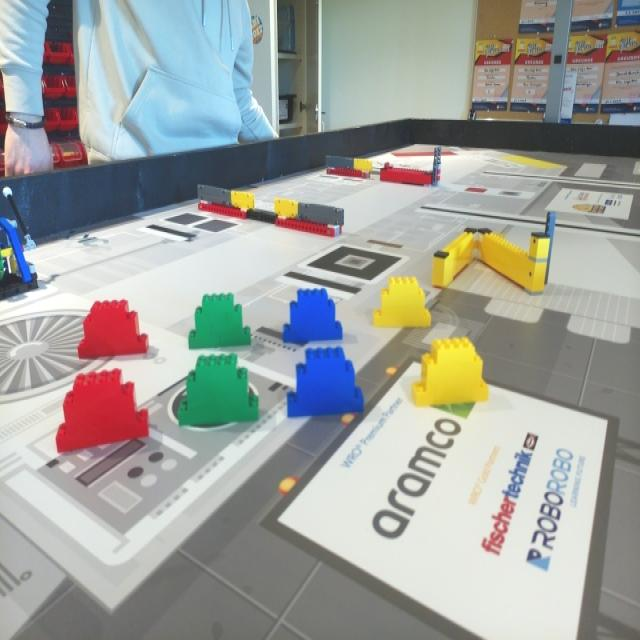blau: (289, 348, 363, 417), (283, 288, 344, 344)
gruen: (179, 354, 259, 427), (188, 293, 254, 349)
rot: (56, 372, 149, 448), (78, 301, 150, 354)
yellow: (411, 337, 487, 407), (372, 276, 432, 328)
